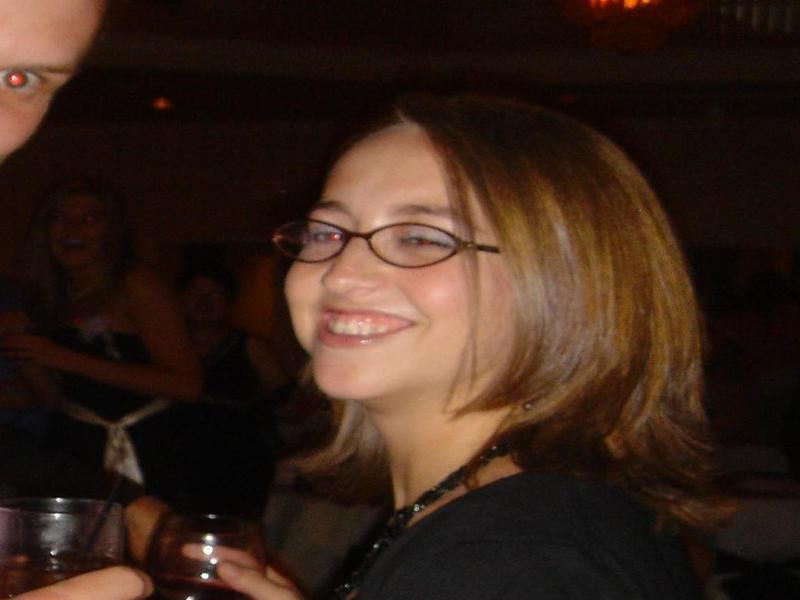person: (249, 92, 740, 600)
